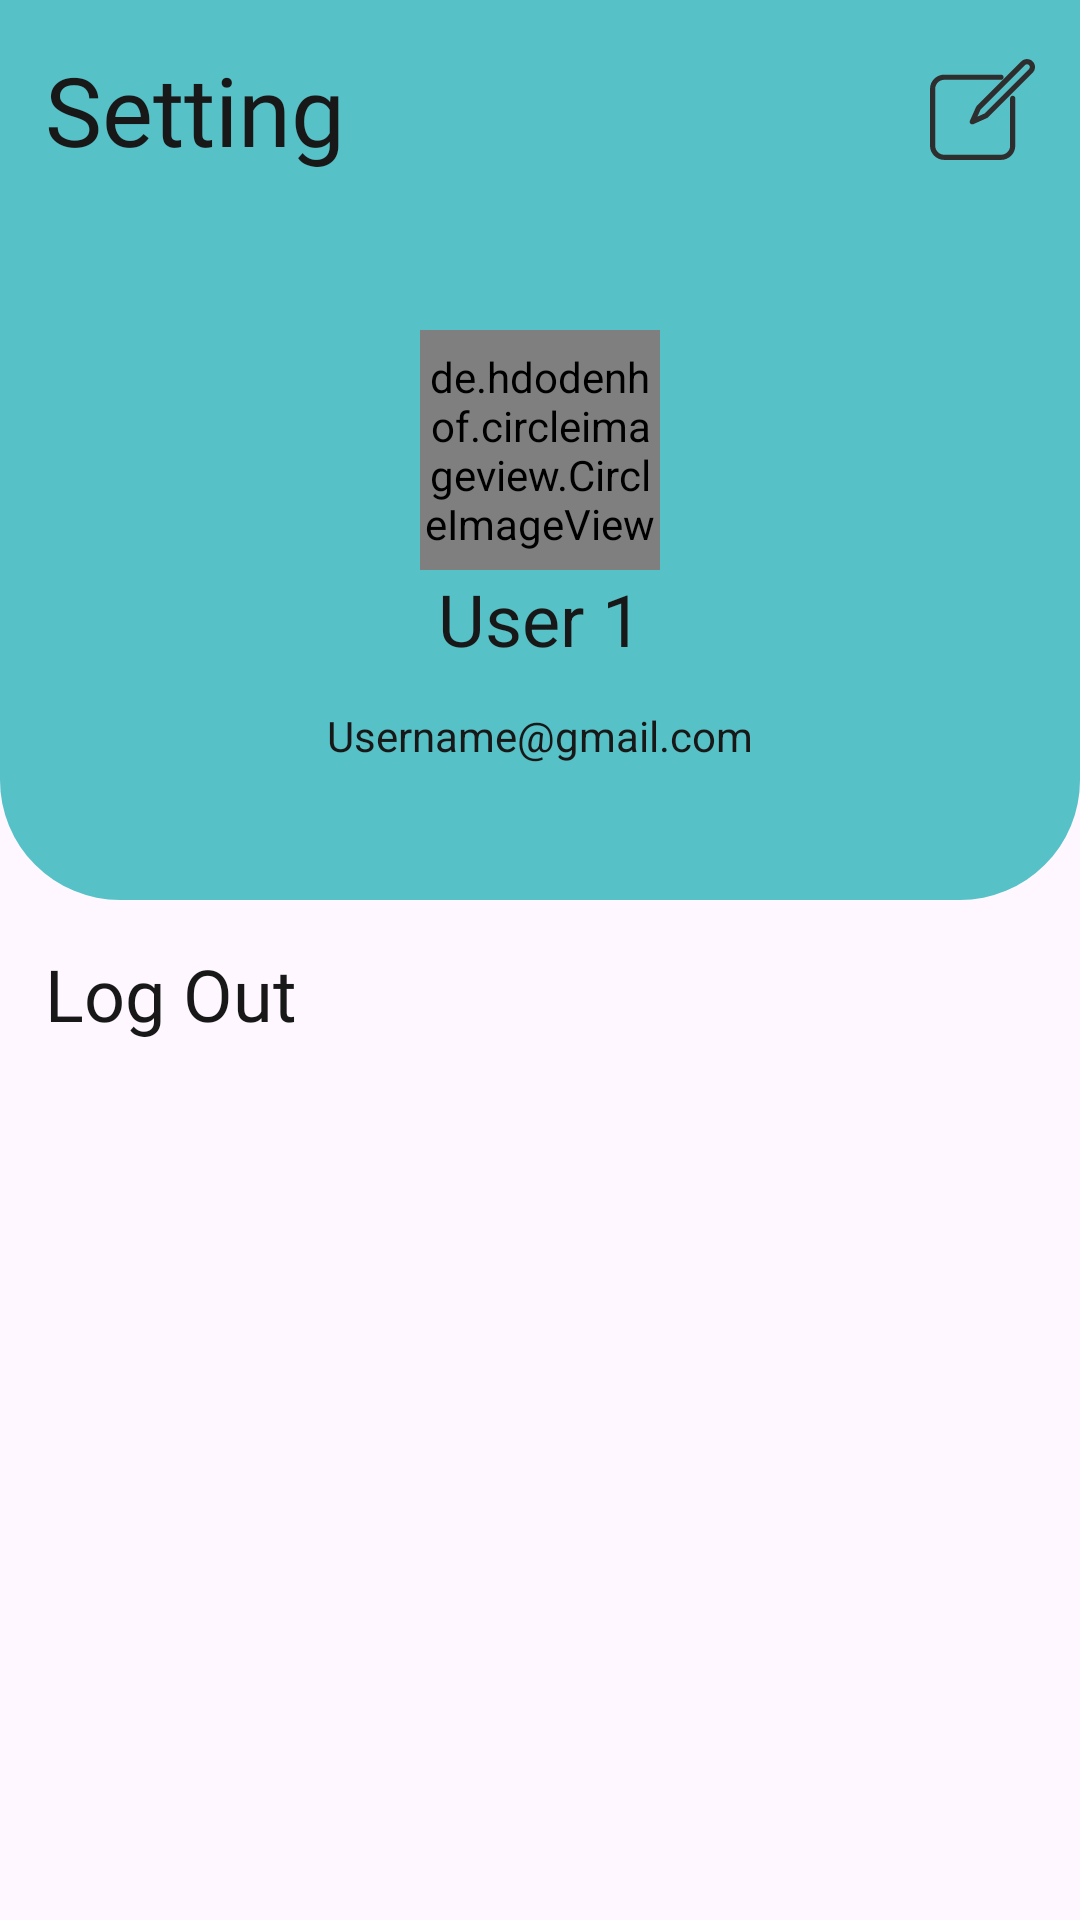

Where to tap for icons on this 1080*1920 app screen, as (x=x, y=y):
edit: (x=982, y=109)
